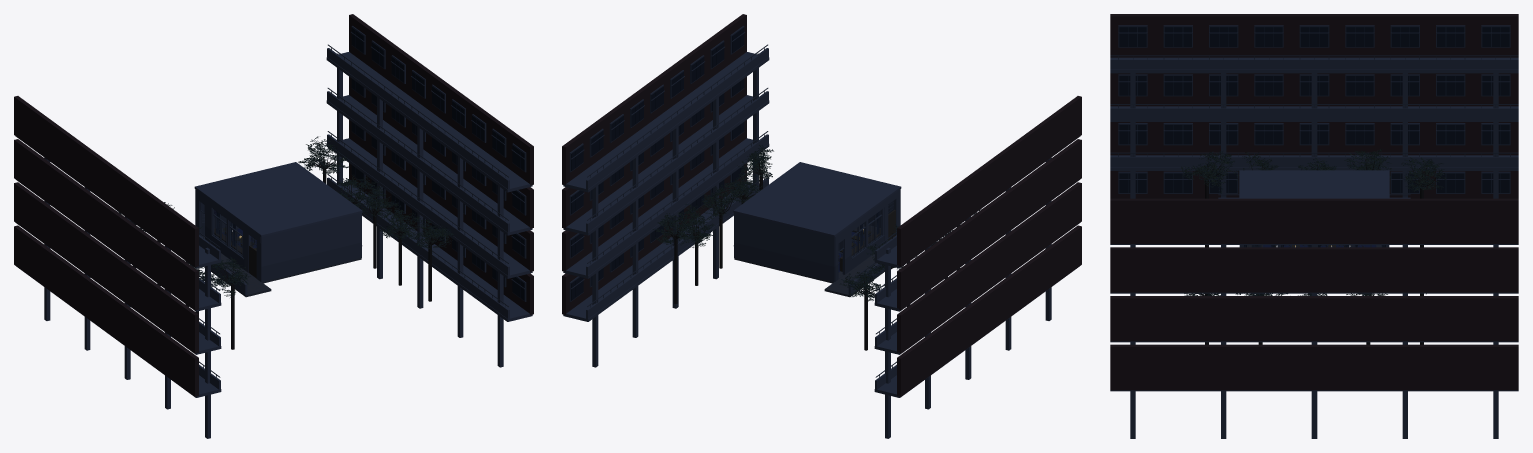
File: starroom-night.glb
3 renders of one model, left to right at view 1: azimuth 30°, elevation 25°; view 2: azimuth 150°, elevation 25°; view 3: azimuth 270°, elevation 25°, orthographic. The views are drawn at different scales.
Parts seen in each view (by area): view 1: 窗外景深 · 对楼陶色窗间墙、廊板及绿荫, 房间 · 双侧窗洞、磨石地面与顶梁, Rear | open classroom doorway, transom and recess; view 2: 窗外景深 · 对楼陶色窗间墙、廊板及绿荫, 房间 · 双侧窗洞、磨石地面与顶梁, Rear | open classroom doorway, transom and recess; view 3: 窗外景深 · 对楼陶色窗间墙、廊板及绿荫, 房间 · 双侧窗洞、磨石地面与顶梁.
Boxes of the visible parts, x1=… form: 窗外景深 · 对楼陶色窗间墙、廊板及绿荫: x1=14, y1=14, x2=533, y2=438; 房间 · 双侧窗洞、磨石地面与顶梁: x1=194, y1=162, x2=362, y2=283; Rear | open classroom doorway, transom and recess: x1=195, y1=189, x2=212, y2=243; 窗外景深 · 对楼陶色窗间墙、廊板及绿荫: x1=562, y1=14, x2=1081, y2=438; 房间 · 双侧窗洞、磨石地面与顶梁: x1=733, y1=162, x2=901, y2=283; Rear | open classroom doorway, transom and recess: x1=834, y1=225, x2=851, y2=281; 窗外景深 · 对楼陶色窗间墙、廊板及绿荫: x1=1110, y1=14, x2=1518, y2=438; 房间 · 双侧窗洞、磨石地面与顶梁: x1=1239, y1=170, x2=1389, y2=247.
Bounding box in the file's own units: 28.74 × 17.95 × 26.55.
50 materials, 3 textured.
